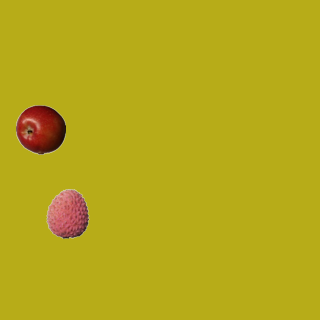Apple Braeburn: (15, 104, 65, 154)
Lychee: (42, 188, 92, 238)
